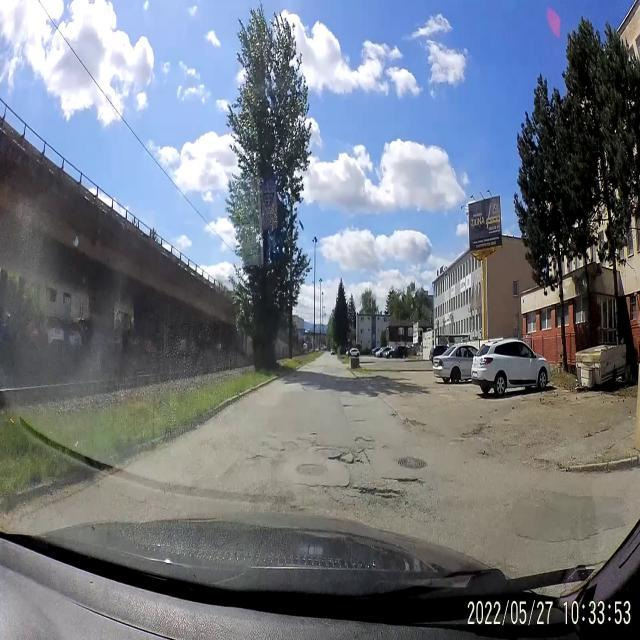Manhole: (295, 460, 328, 477), (396, 454, 430, 470), (315, 446, 342, 460)
Pothole: (349, 484, 409, 502), (458, 419, 494, 441), (303, 482, 348, 498), (340, 452, 370, 472), (379, 474, 426, 486), (276, 437, 302, 455), (402, 414, 428, 432), (354, 432, 376, 452), (247, 450, 267, 466), (475, 448, 493, 460), (388, 408, 399, 422), (353, 417, 367, 425), (341, 402, 354, 410), (380, 442, 390, 452), (310, 428, 316, 441)
